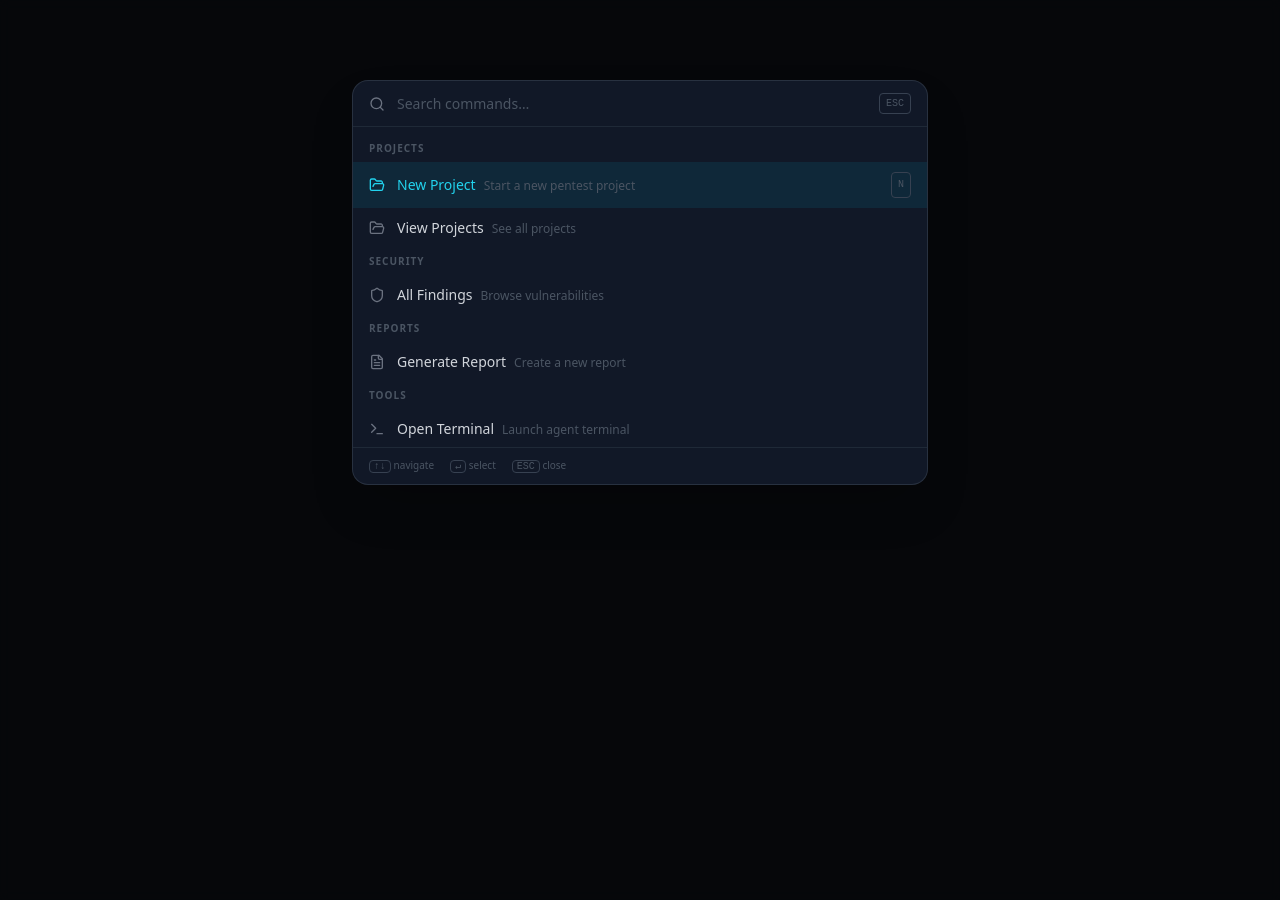
Test: CommandPalette › shows no commands message for no match
Type "zzzzz" into the field with placeholder "Search commands…" at (632, 104), box [397,94,867,114]
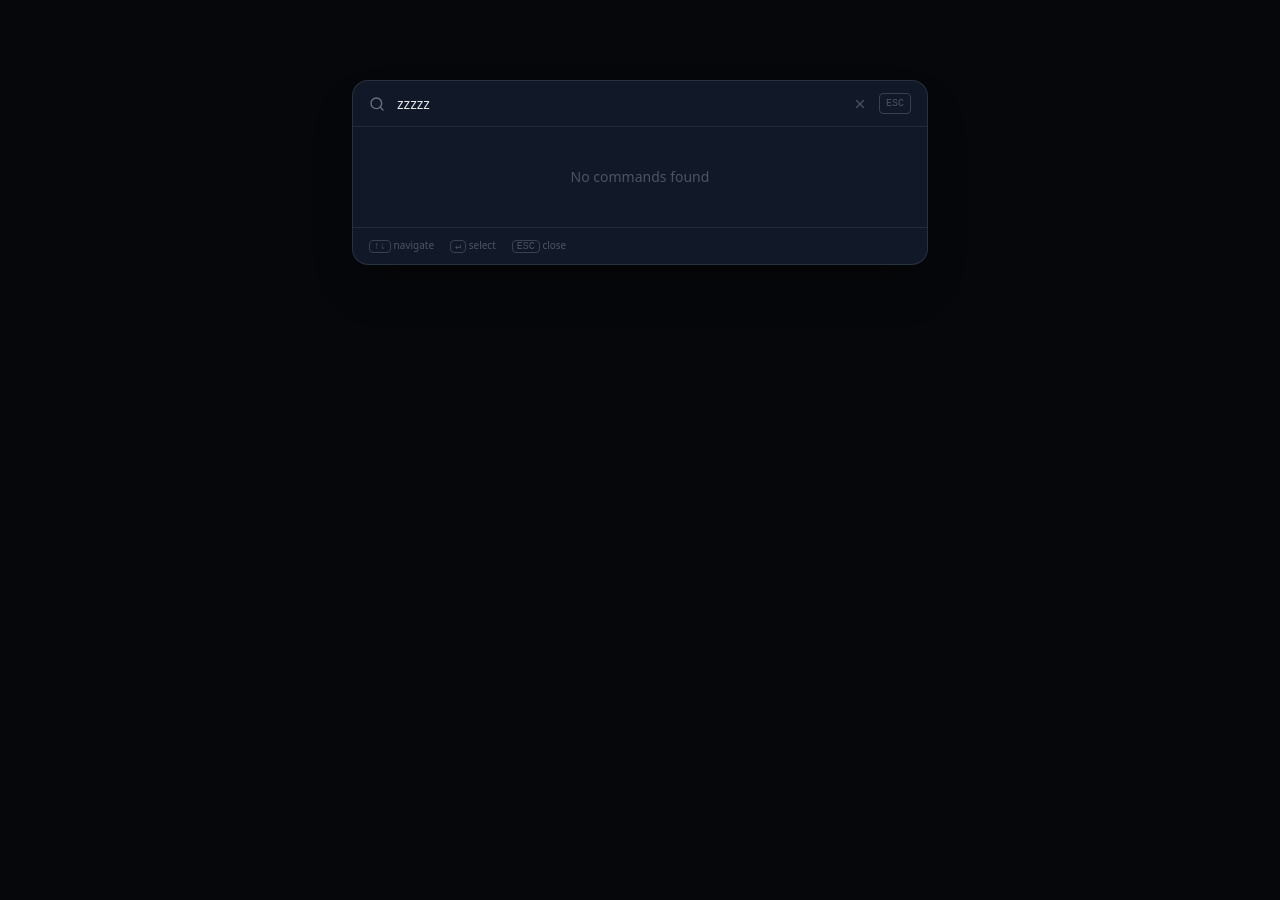
expect the text "No commands found" is shown: met, box [571,167,709,186]
